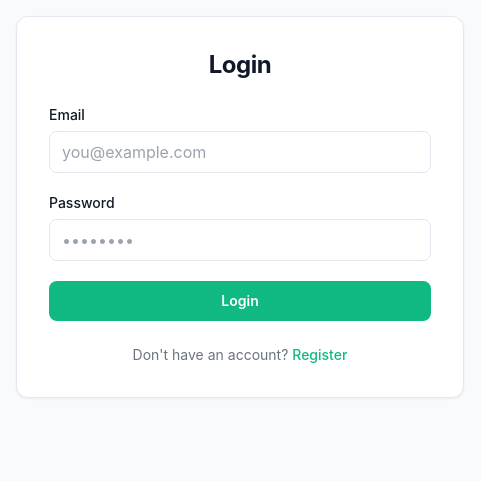
Test: LoginPage › shows server error on login failure
The width and height of the screenshot is (481, 481).
Step 1. Type "test@example.com" into the field labelled "Email" → x=240, y=152, box x1=49 y1=131 x2=431 y2=173
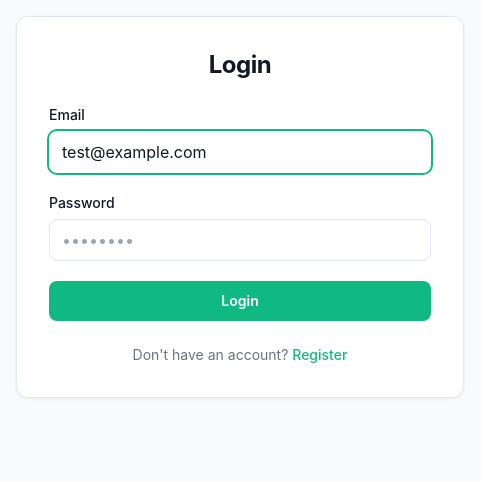
Step 2. Type "password123" into the password field labelled "Password" → x=240, y=240, box x1=49 y1=219 x2=431 y2=261
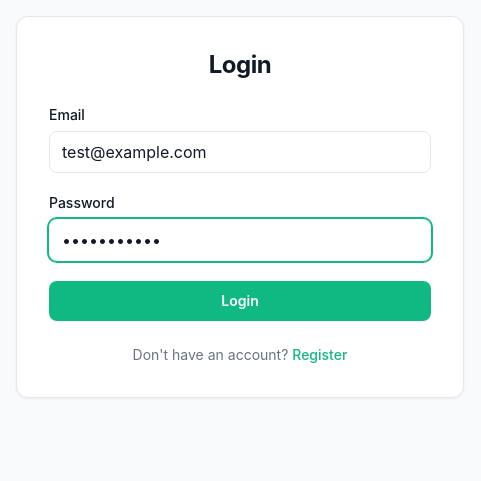
Step 3. Click the button "Login" → x=240, y=301, box x1=49 y1=281 x2=431 y2=321
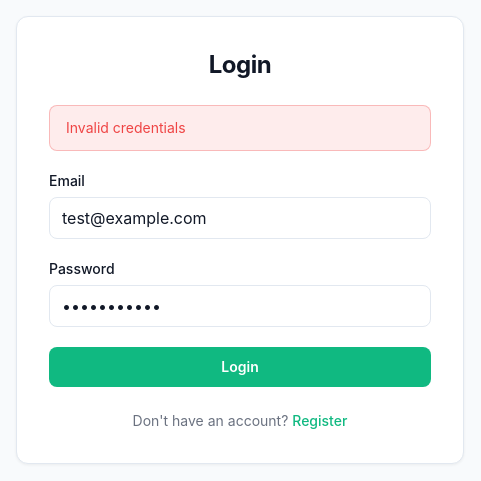
Expected: the text "Invalid credentials" is shown, x1=49 y1=105 x2=431 y2=151
